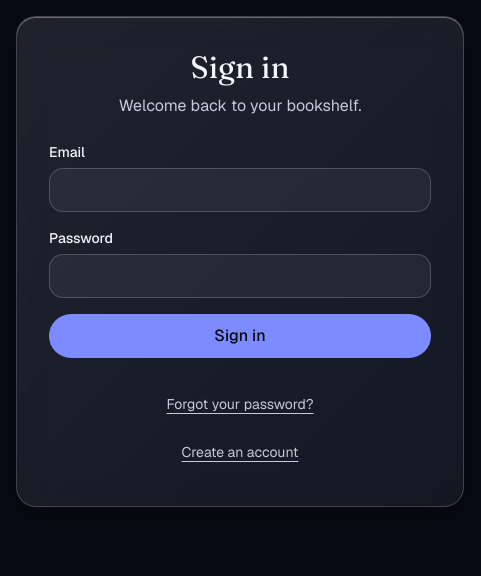
Scenario: AuthForm › shows field errors and sends nothing when the form is invalid
This screenshot has width=481, height=576.
Click the button "Sign in" at {"x": 240, "y": 336}, box [49,314,431,358]
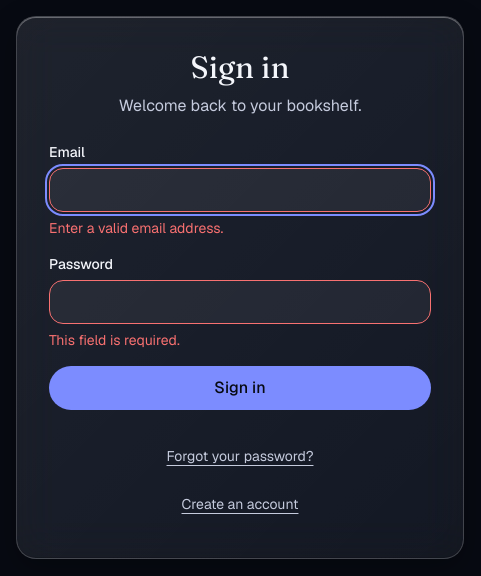
expect the text "Enter a valid email address." is shown: met, box [49,219,223,237]
